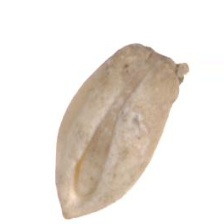L1: (130, 43, 189, 80), (50, 203, 98, 221)
L2: (55, 44, 188, 219)
